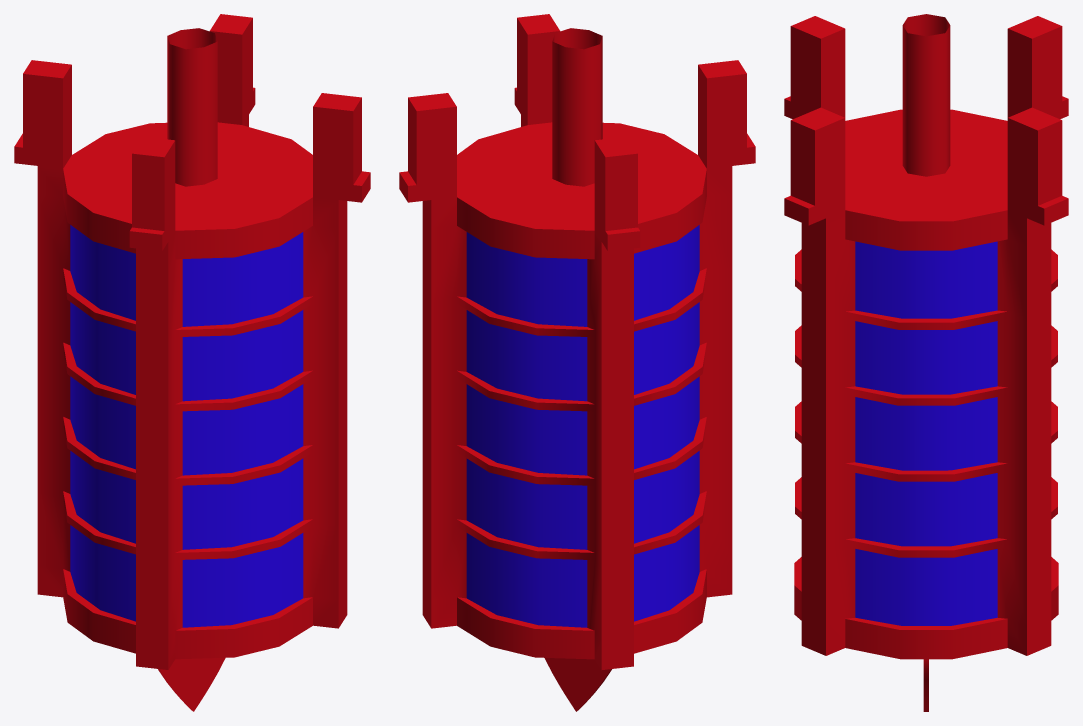
The model's file is SingleLight.fbx.
3 views of the same model, side by side, from view 1: azimuth 30°, elevation 25°; view 2: azimuth 150°, elevation 25°; view 3: azimuth 270°, elevation 25° (orthographic). The views are drawn at different scales.
Parts seen in each view (by area): view 1: SingleLight; view 2: SingleLight; view 3: SingleLight.
Part boxes in pixels (x1,y1,x2,y2): SingleLight: (14,14,370,711); SingleLight: (399,14,755,711); SingleLight: (784,14,1068,711).
Bounding box in the file's own units: 56.27 × 150 × 56.27.
